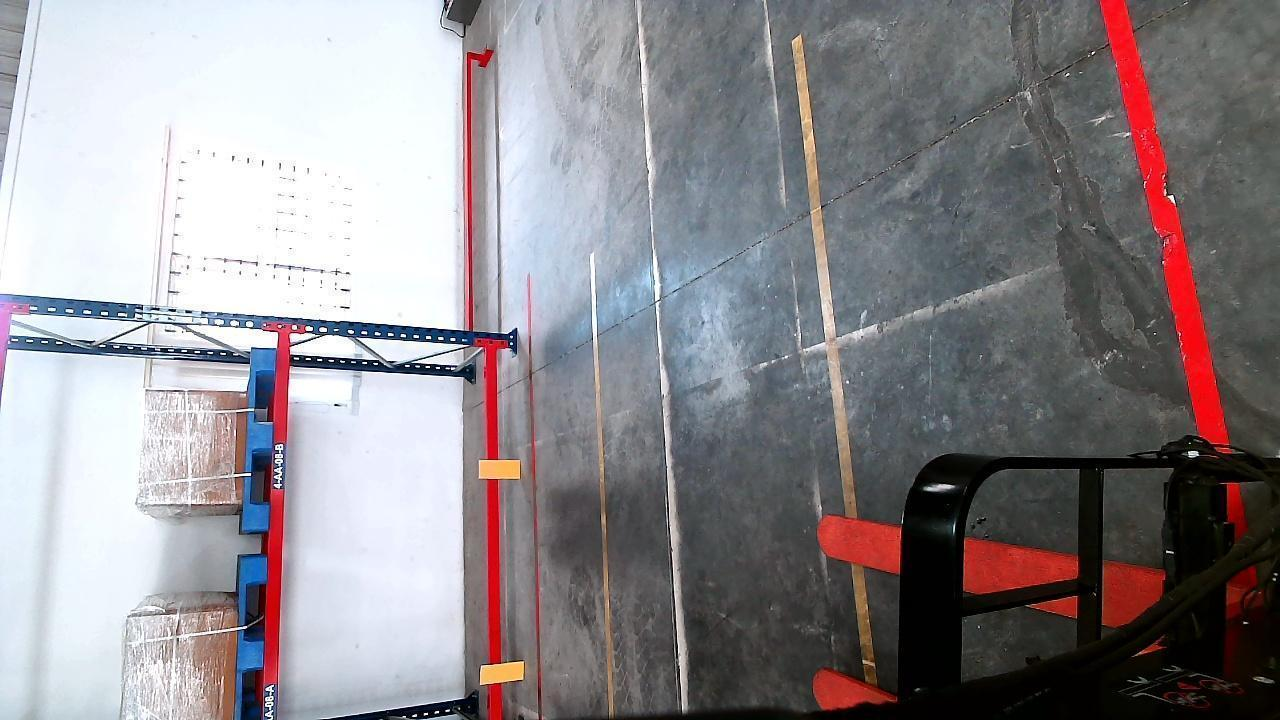red_line: (525, 269, 544, 717)
yellow_line: (791, 35, 878, 684), (589, 252, 619, 719)
